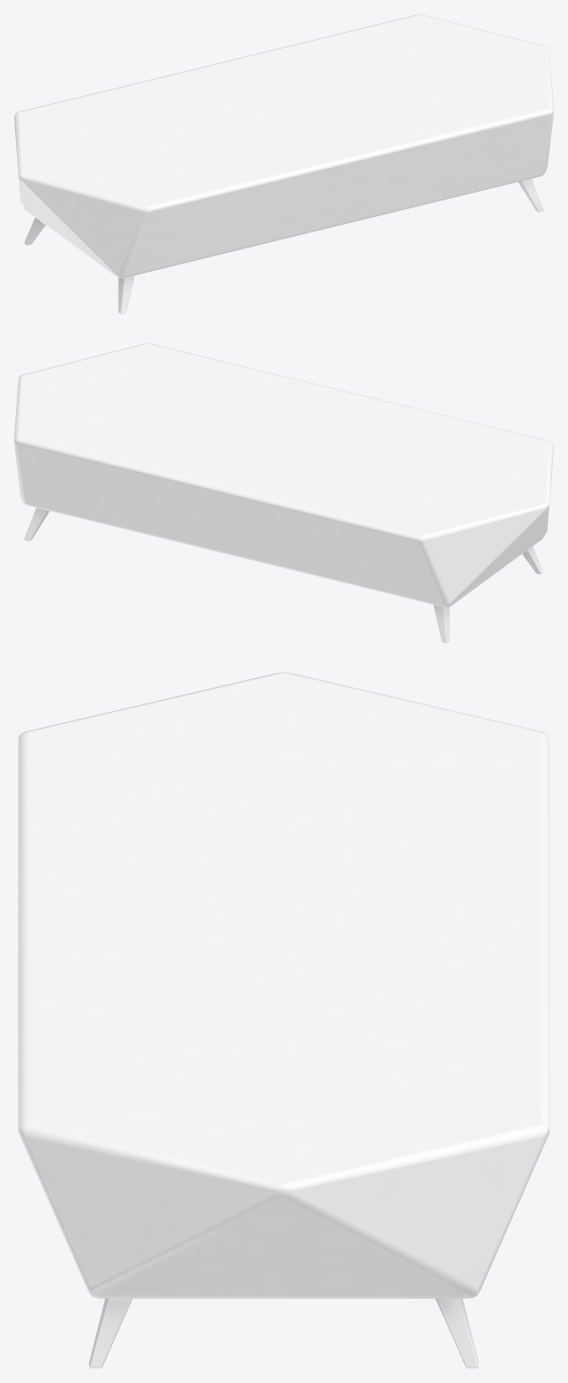
Rendered from Bench.glb.
3 views of the same model, one above another, from view 1: azimuth 30°, elevation 25°; view 2: azimuth 150°, elevation 25°; view 3: azimuth 270°, elevation 25° (orthographic). The views are drawn at different scales.
Visible parts, largest first — view 1: Bench, Bench.001; view 2: Bench, Bench.001; view 3: Bench, Bench.001.
Part boxes in pixels (<box>): Bench: <box>14,14,553,278</box>; Bench.001: <box>24,179,543,314</box>; Bench: <box>14,343,553,607</box>; Bench.001: <box>24,508,543,643</box>; Bench: <box>18,672,549,1298</box>; Bench.001: <box>89,1298,478,1368</box>.
Size of the model in its own units: 2.64 by 0.5595 by 1.15.
Materials: 1 (1 with a texture image).
